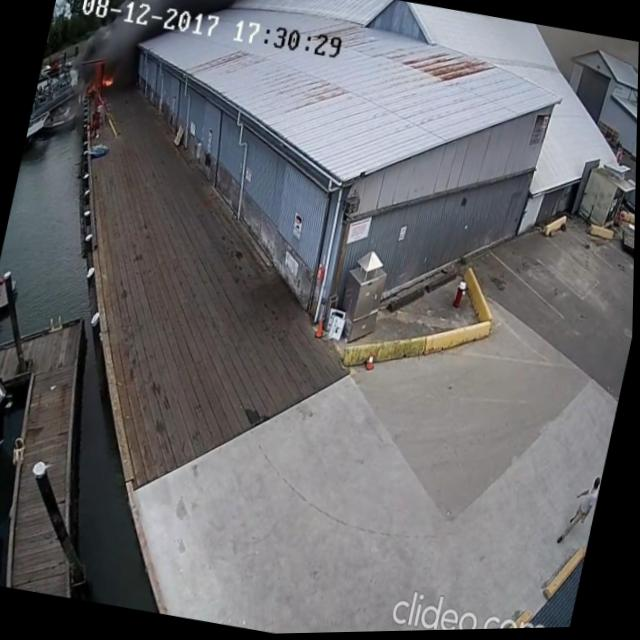fire: (101, 76, 117, 90)
